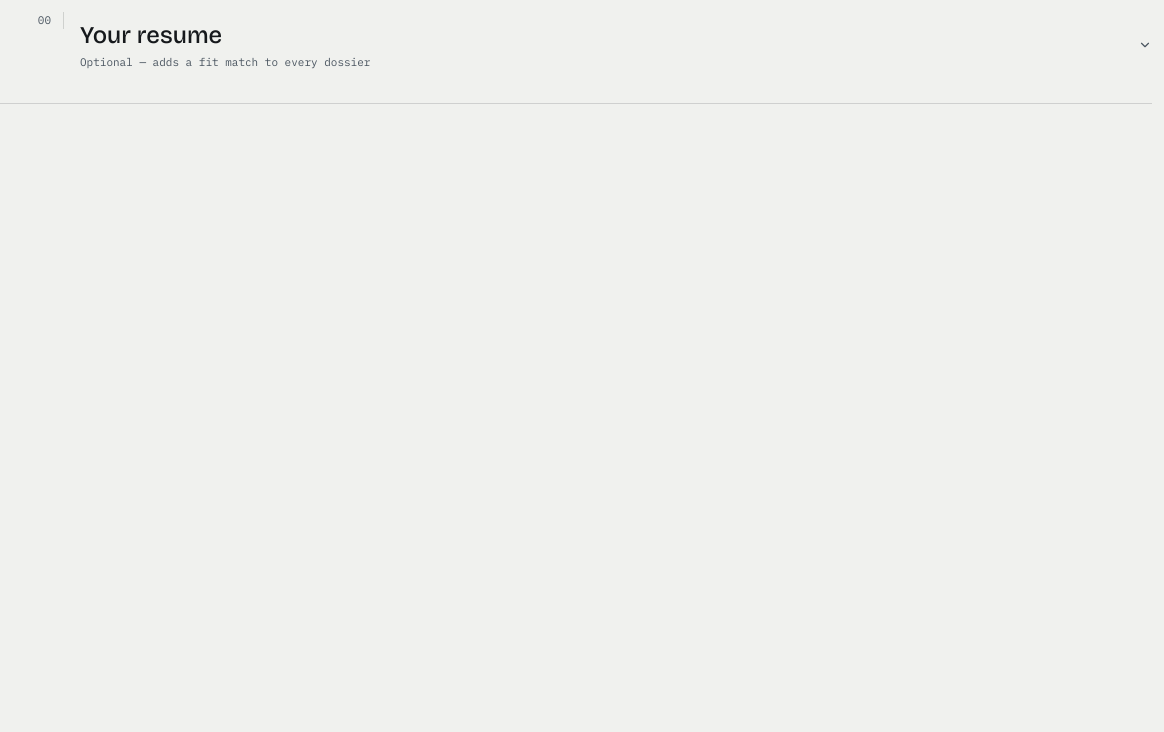
it: ResumePanel — account region (reactive) › a USER_UPDATED event (email/account change) refreshes the identity
Click the button "Your resume Optional — adds a fit match to every dossier" at (151, 35), box [80,12,1152,78]
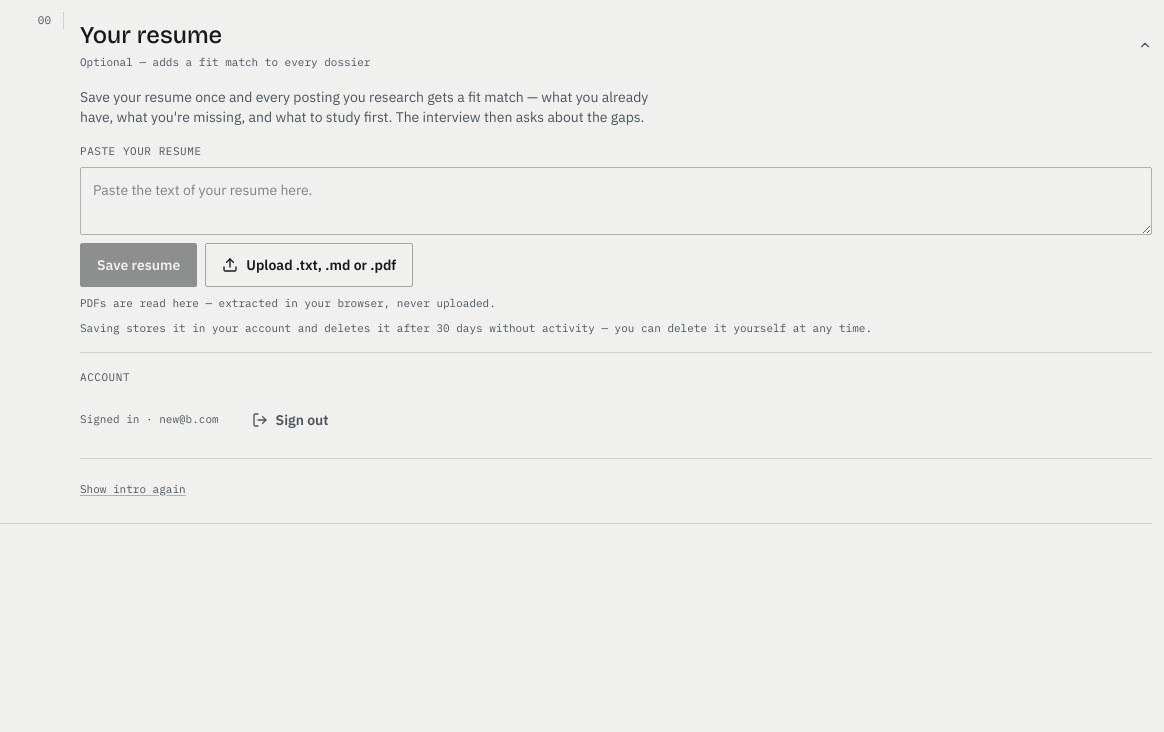
Expected: the text "Signed in · new@b.com" is shown, [80,411,219,428]
